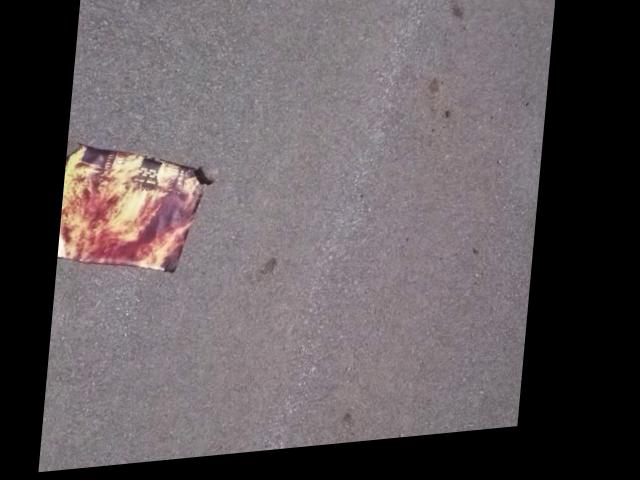fire-poster: (60, 133, 223, 289)
